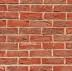brick: (7, 4, 31, 11), (41, 57, 65, 64), (29, 50, 52, 57), (31, 4, 53, 11), (42, 27, 64, 34), (7, 35, 29, 42), (53, 49, 72, 57), (45, 12, 66, 19), (20, 27, 41, 34), (20, 12, 43, 18), (1, 57, 18, 65), (30, 20, 52, 26), (30, 36, 52, 42), (20, 43, 42, 49), (7, 50, 29, 56), (19, 57, 41, 63), (1, 11, 19, 18), (8, 20, 29, 26), (1, 43, 19, 50), (43, 43, 64, 49), (1, 27, 18, 34), (53, 20, 72, 26), (54, 5, 72, 11), (5, 66, 28, 70), (54, 37, 72, 42), (30, 66, 52, 70), (54, 66, 71, 71), (44, 1, 66, 4), (1, 1, 20, 4), (20, 1, 44, 3), (1, 20, 7, 27), (66, 42, 72, 49), (1, 51, 7, 57), (1, 35, 6, 42), (67, 28, 71, 35)
